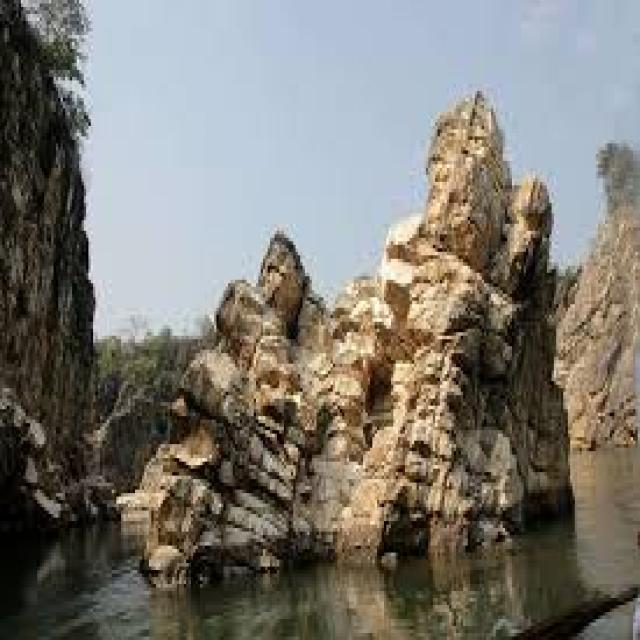Metamorphic: (132, 116, 574, 574)
